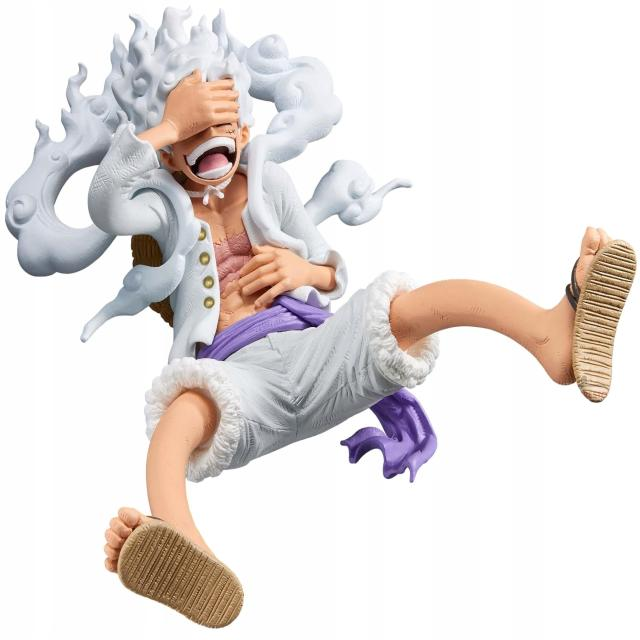luffy: (26, 23, 640, 598)
